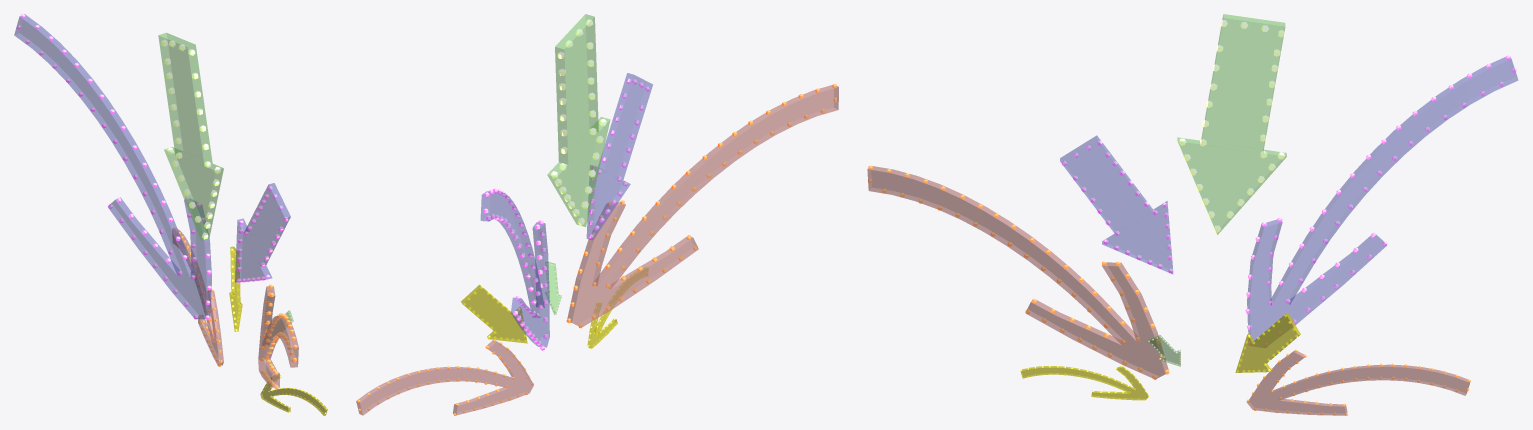
Rendered from ArrowLeds.fbx.
3 renders of one model, left to right at view 1: azimuth 30°, elevation 25°; view 2: azimuth 150°, elevation 25°; view 3: azimuth 270°, elevation 25°, orthographic. The views are drawn at different scales.
Visible parts, largest first — view 1: Arrow.001, Sphere, Sphere.001, Arrow.002, Arrow, Arrow.003, Sphere.003; view 2: Arrow.002, Sphere, Arrow.001, Sphere.001, Arrow, Sphere.003, Arrow.003, Sphere.002; view 3: Arrow.001, Sphere, Arrow.002, Sphere.001, Arrow, Sphere.003, Arrow.003.
Part boxes in pixels (x1,y1,x2,y2): Arrow.001: (14, 14, 211, 319); Sphere: (158, 32, 223, 240); Sphere.001: (235, 183, 290, 282); Arrow.002: (258, 284, 298, 389); Arrow: (172, 227, 223, 366); Arrow.003: (260, 374, 327, 415); Sphere.003: (229, 246, 242, 331); Arrow.002: (566, 83, 838, 328); Sphere: (547, 14, 610, 226); Arrow.001: (480, 188, 549, 350); Sphere.001: (586, 73, 652, 240); Arrow: (356, 339, 533, 415); Sphere.003: (461, 284, 527, 343); Arrow.003: (587, 267, 647, 349); Sphere.002: (545, 262, 561, 314); Arrow.001: (1245, 55, 1518, 347); Sphere: (1177, 14, 1286, 234); Arrow.002: (867, 165, 1169, 379); Sphere.001: (1060, 135, 1173, 274); Arrow: (1246, 349, 1470, 415); Sphere.003: (1235, 313, 1300, 372); Arrow.003: (1020, 365, 1149, 400).
Size of the model in its own units: 2093 by 1322 by 650.
